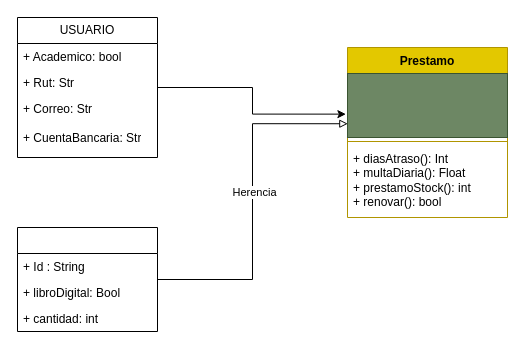
Image size: 525x352. Some labels were removed from this diagram. Here are the shapes that lost their labels. From the top down, the box of each, then its label:
(346, 72, 508, 138): + Id: string + monto: Float + fecha_prestamo : Str + fecha_devolucion : Str
(16, 226, 158, 332): STOCK_BOOK
